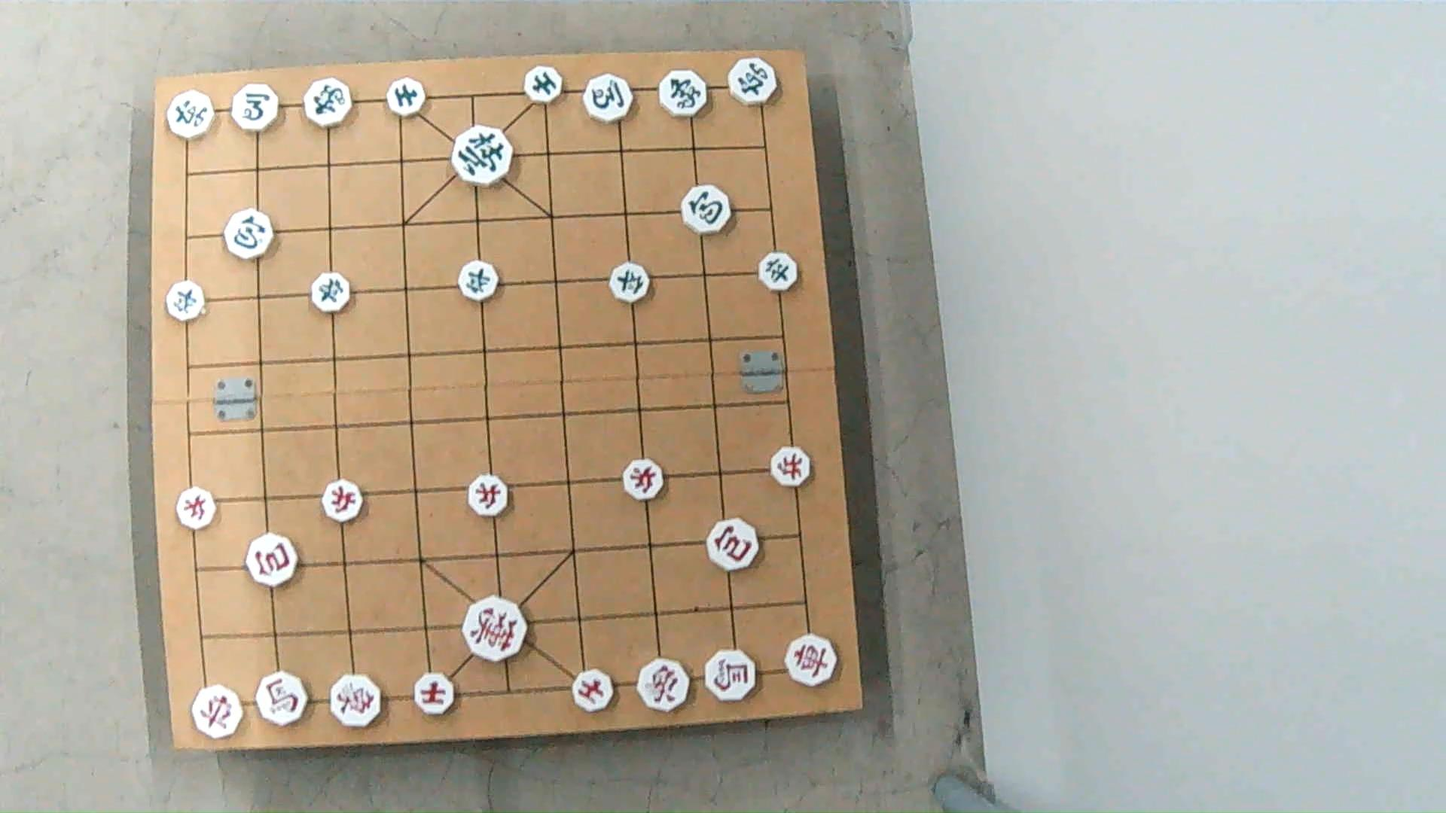cha_green: (163, 88, 213, 138), (728, 60, 776, 108)
cha_red: (191, 684, 246, 740), (786, 633, 840, 690)
jol_green: (459, 262, 501, 301), (161, 284, 204, 322), (611, 263, 652, 302), (310, 273, 352, 311), (761, 254, 803, 291)
jol_red: (321, 481, 364, 522), (770, 442, 811, 484), (467, 477, 510, 517), (624, 462, 667, 501), (174, 492, 216, 531)
ma_green: (233, 87, 283, 132), (581, 77, 632, 121)
ma_red: (701, 650, 758, 699), (258, 675, 310, 726)
po_green: (224, 209, 273, 258), (684, 187, 735, 233)
po_red: (246, 537, 299, 588), (704, 520, 758, 569)
sa_green: (387, 80, 428, 117), (525, 69, 565, 104)
sa_red: (569, 667, 611, 712), (411, 673, 453, 713)
sang_green: (657, 69, 708, 118), (304, 78, 355, 126)
sang_red: (635, 659, 692, 711), (331, 675, 382, 731)
wang_green: (453, 129, 516, 185)
wang_red: (464, 599, 528, 660)
